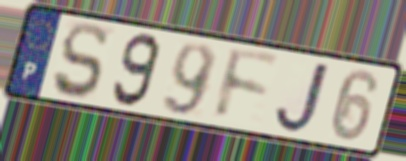6: (329, 67, 380, 144)
9: (159, 40, 222, 116), (111, 31, 164, 108)
F: (212, 44, 282, 124)
J: (272, 59, 334, 135)
S: (50, 21, 110, 102)
